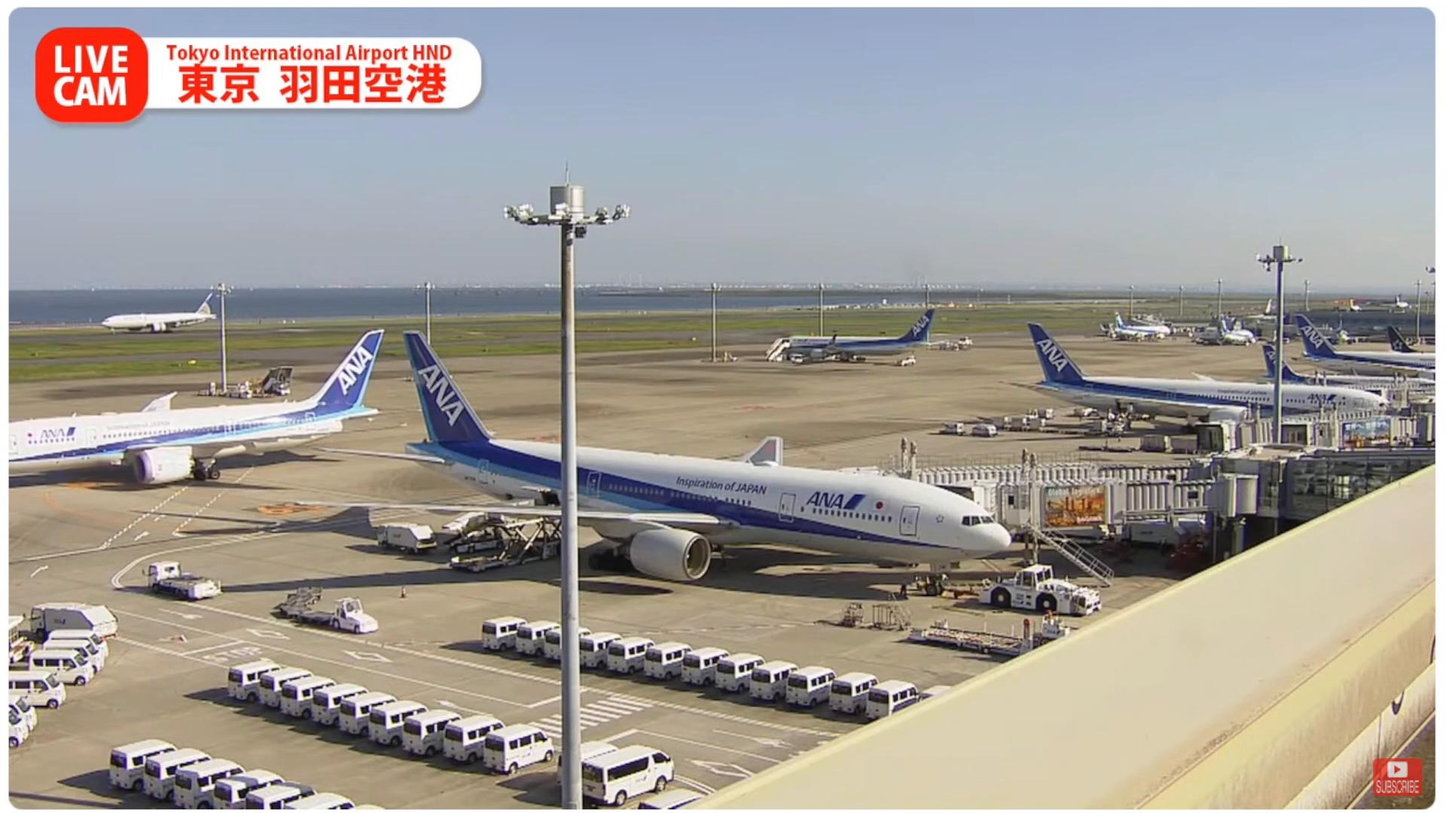APS: (982, 565, 1107, 615)
Aerobridge: (880, 463, 1198, 520), (990, 479, 1258, 539)
Airplane: (308, 328, 1018, 599)
Baggage truck: (374, 522, 435, 550)
Dolly: (275, 587, 334, 622)
JCPL: (914, 608, 1083, 659), (437, 520, 564, 580)
Skyloader: (426, 503, 510, 554)
Tractor: (324, 598, 383, 634)
Window: (1281, 462, 1437, 524)
